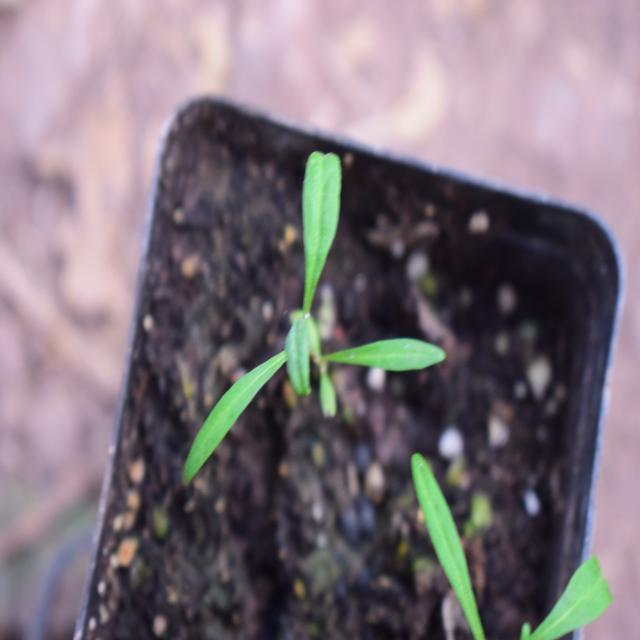white_smart_weed: (174, 136, 419, 506)
